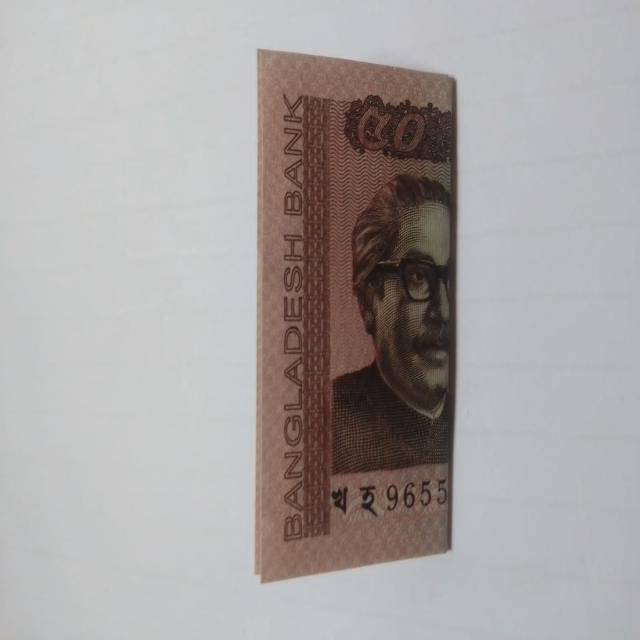Taka: (245, 46, 459, 590)
